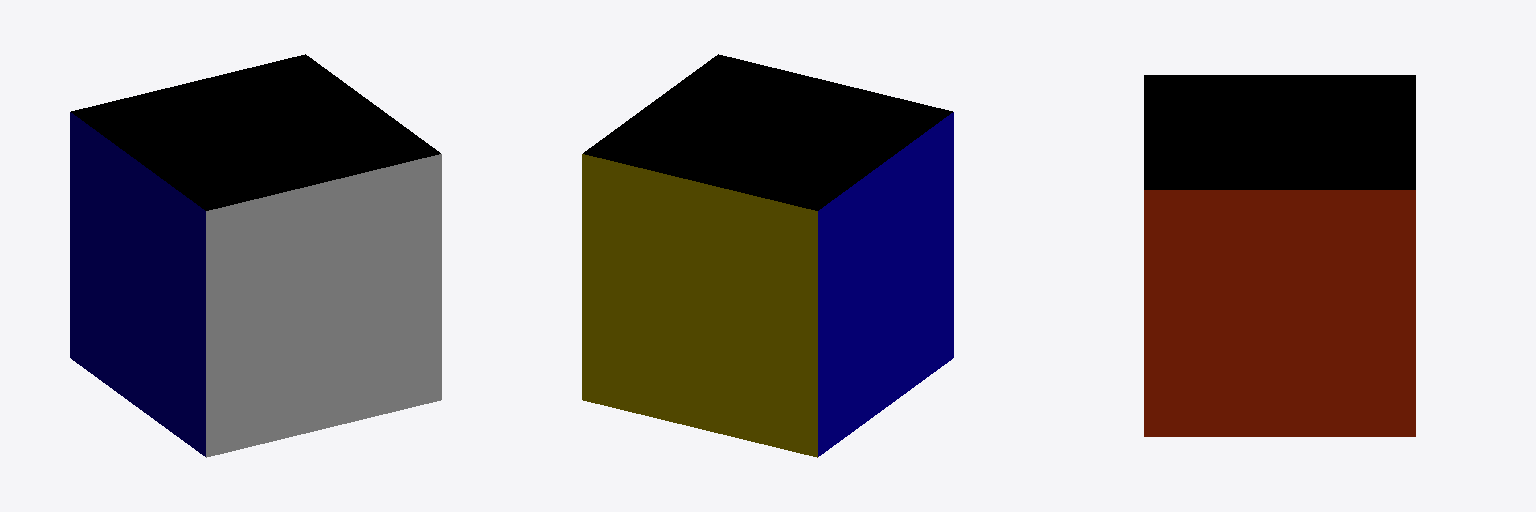
3 renders of one model, left to right at view 1: azimuth 30°, elevation 25°; view 2: azimuth 150°, elevation 25°; view 3: azimuth 270°, elevation 25°, orthographic.
Parts seen in each view (by area): view 1: Cube; view 2: Cube; view 3: Cube.
Boxes of the visible parts, <box> form: Cube: <box>70,54,441,457</box>; Cube: <box>582,54,953,457</box>; Cube: <box>1144,75,1415,436</box>.
Size of the model in its own units: 17.78 by 17.78 by 17.78.